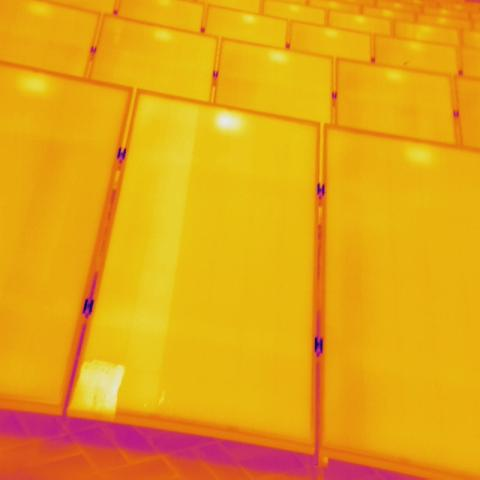fault: (65, 360, 125, 419), (214, 108, 245, 138)
